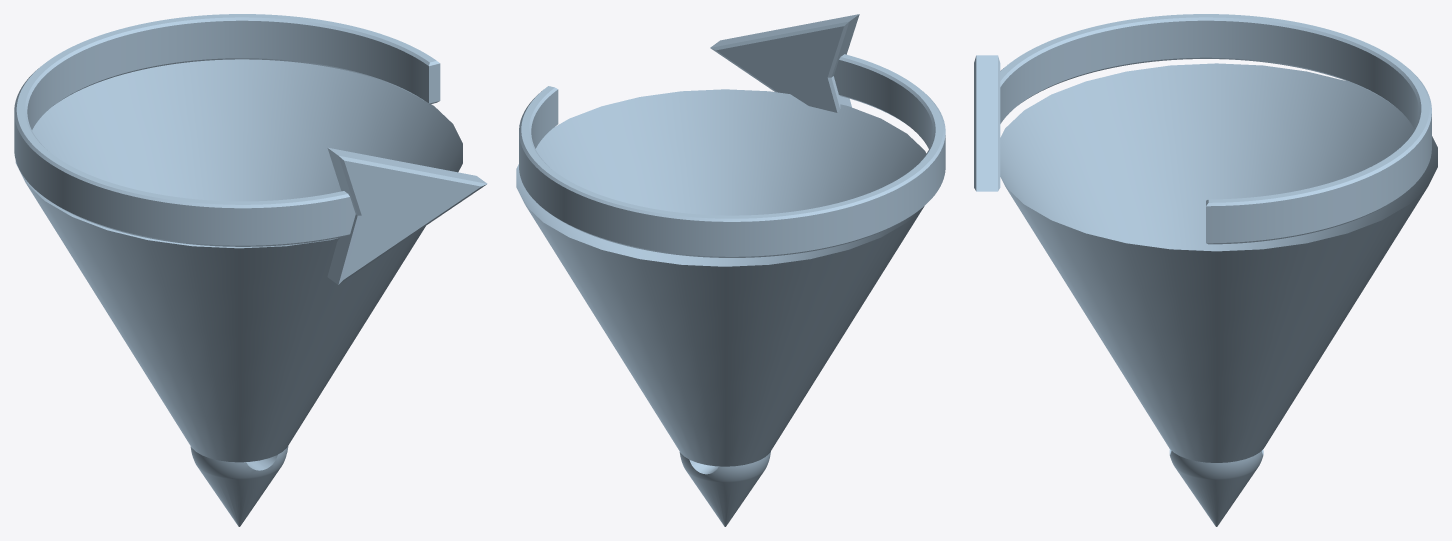
Rendered from TimelineElement_Hotpoint.dae.
3 renders of one model, left to right at view 1: azimuth 30°, elevation 25°; view 2: azimuth 150°, elevation 25°; view 3: azimuth 270°, elevation 25°, orthographic. The views are drawn at different scales.
Visible parts, largest first — view 1: hotpoint_2x_002; view 2: hotpoint_2x_002; view 3: hotpoint_2x_002.
Boxes of the visible parts, bbox=[...] form: hotpoint_2x_002: bbox=[14, 14, 487, 526]; hotpoint_2x_002: bbox=[516, 14, 945, 526]; hotpoint_2x_002: bbox=[974, 14, 1437, 526].
Size of the model in its own units: 0.6901 by 0.7082 by 0.7756.
